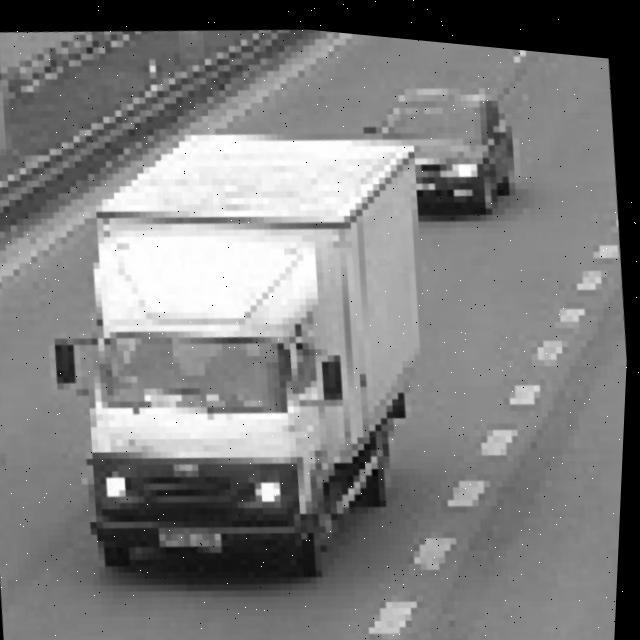truck: (25, 184, 387, 589)
